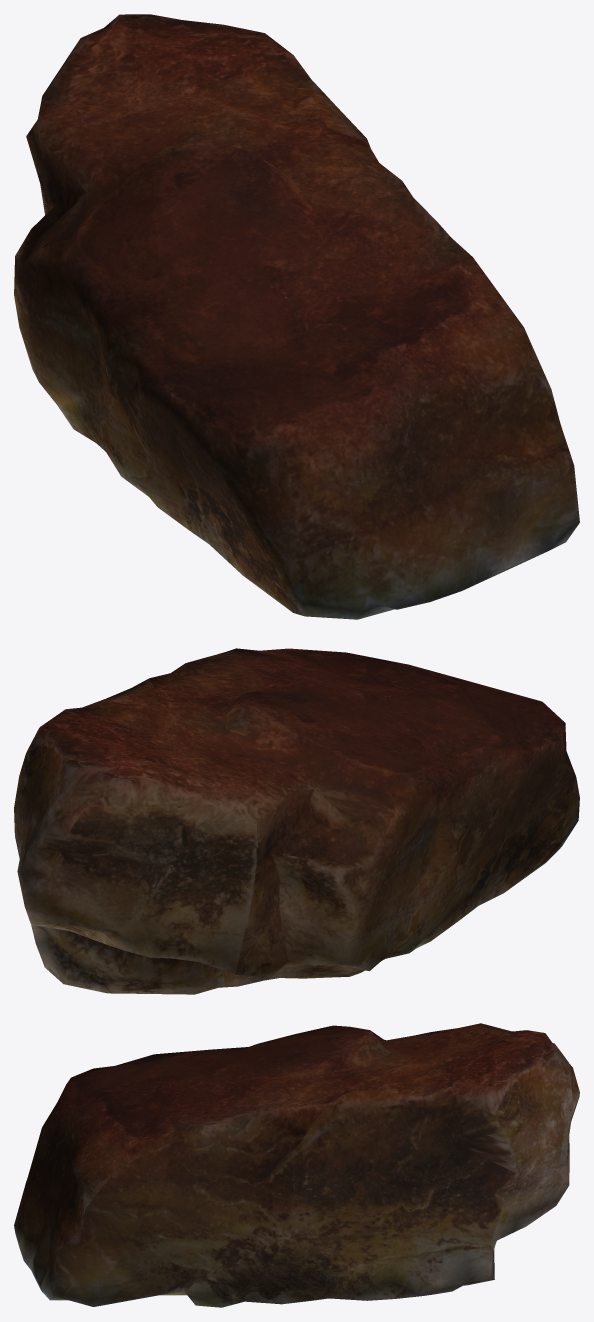
File: SM_Stone_07.gltf
3 renders of one model, top to bottom at view 1: azimuth 30°, elevation 25°; view 2: azimuth 150°, elevation 25°; view 3: azimuth 270°, elevation 25°, orthographic. The views are drawn at different scales.
Visible parts, largest first — view 1: SM_Stone_07; view 2: SM_Stone_07; view 3: SM_Stone_07.
Boxes of the visible parts, x1,y1,x2,y2 form: SM_Stone_07: (14,14,579,619); SM_Stone_07: (14,648,579,994); SM_Stone_07: (14,1023,579,1307).
Size of the model in its own units: 0.1675 by 0.1428 by 0.3207.
1 material, 1 textured.
